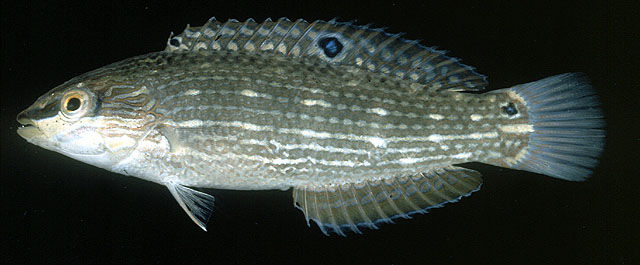fish: (16, 16, 606, 233)
